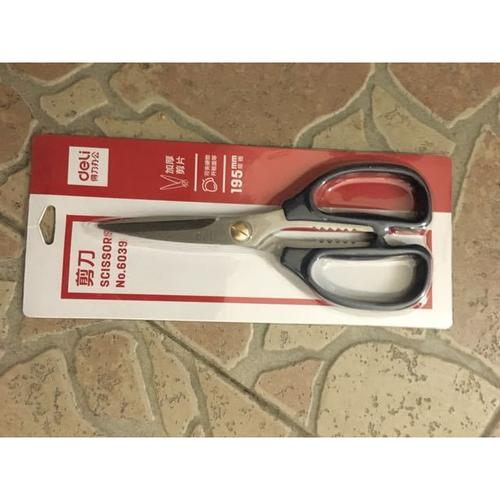scissor: (93, 161, 432, 312)
